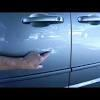doorouter-dent: (0, 13, 72, 90), (71, 11, 99, 88)
